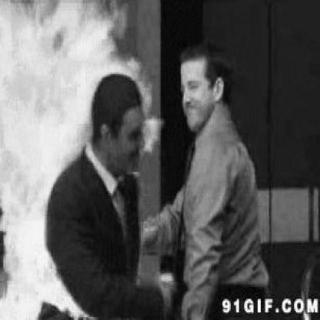Fire: (0, 0, 166, 316)
